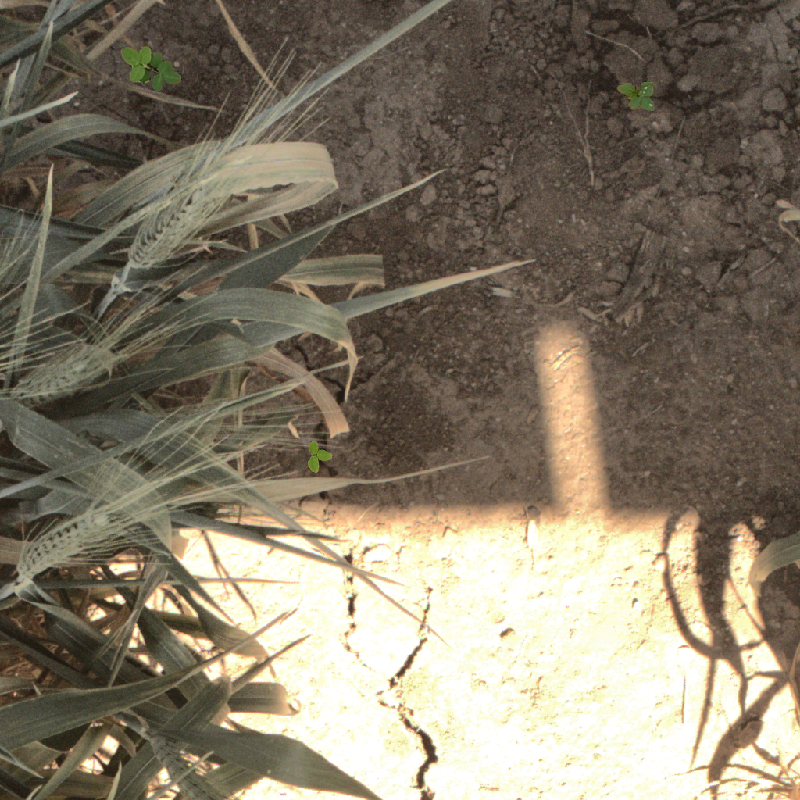spikelet: (108, 182, 224, 292), (10, 502, 121, 584), (10, 337, 120, 407), (149, 731, 229, 800)
weed: (121, 46, 181, 91), (304, 440, 336, 476), (616, 82, 655, 111)
